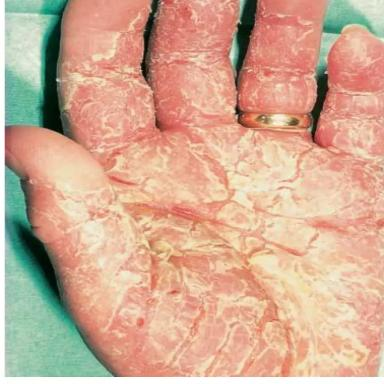eczema: (26, 0, 384, 375), (241, 4, 320, 114)
